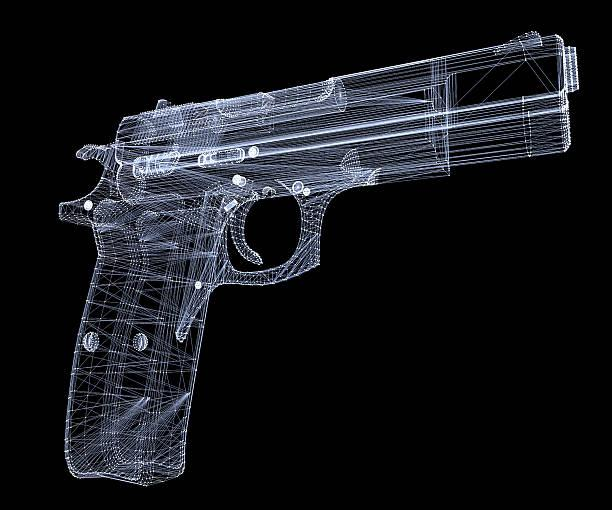weapon: (55, 27, 582, 488)
